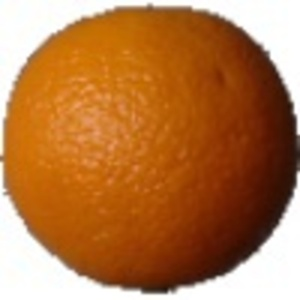laranja: (1, 2, 299, 297)
